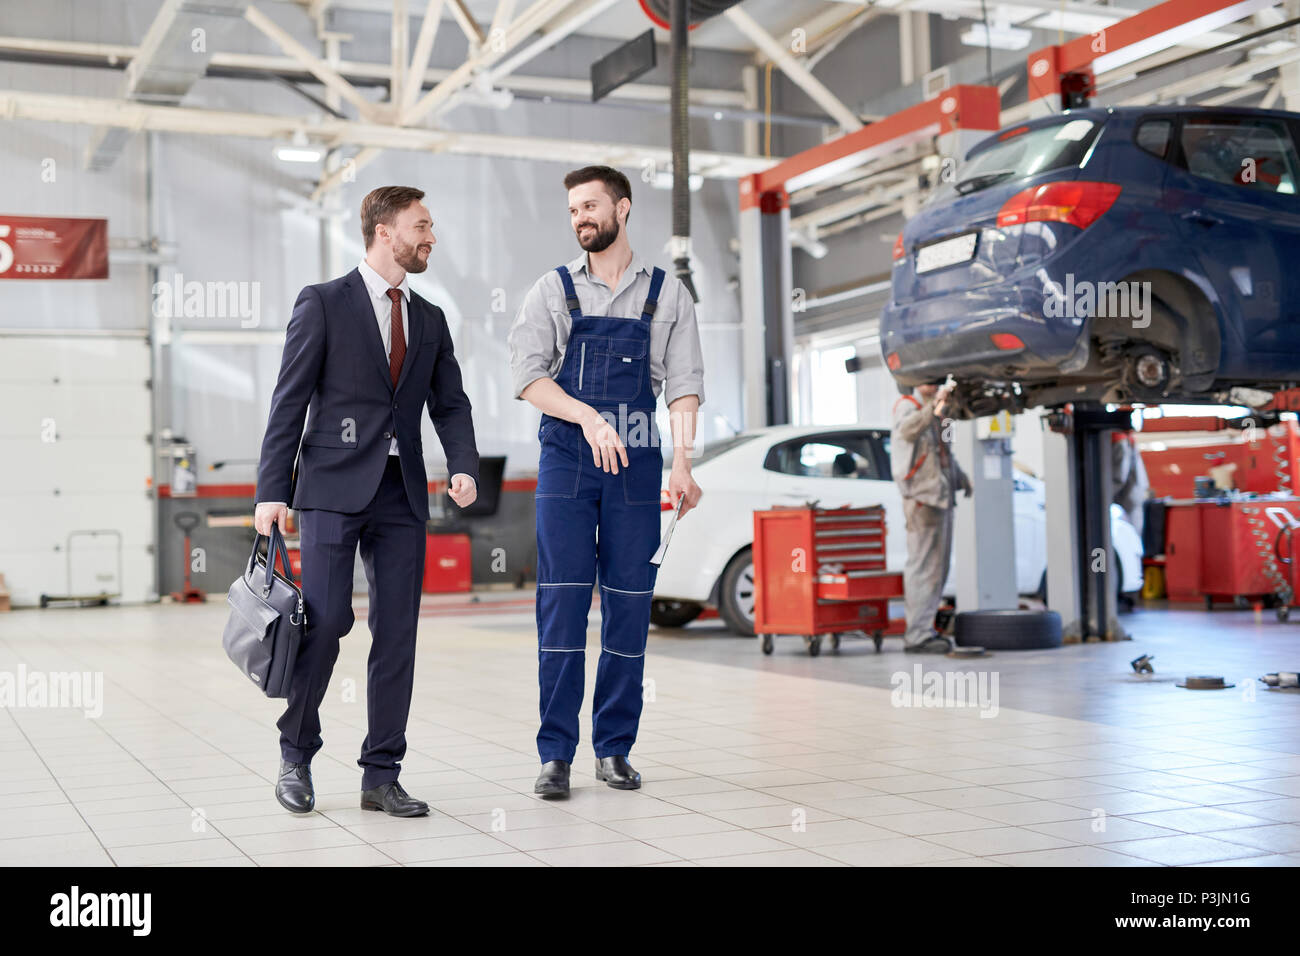person: (254, 185, 477, 813), (514, 167, 706, 799)
